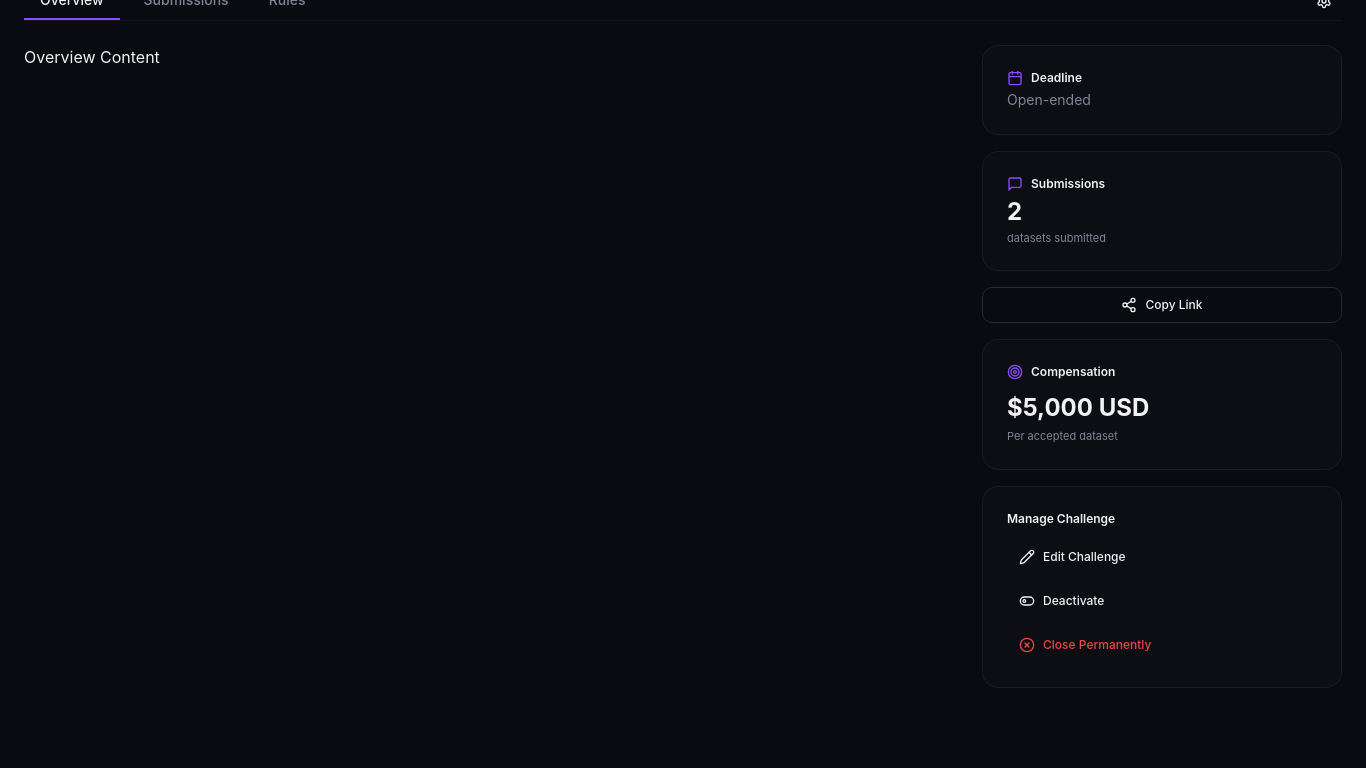
Test case: ChallengeLayout › owner status actions call setStatus and update UI state
The image size is (1366, 768).
(page scrolled)
Click the button "Deactivate": (1074,600) [1007,582,1317,618]
(page scrolled)
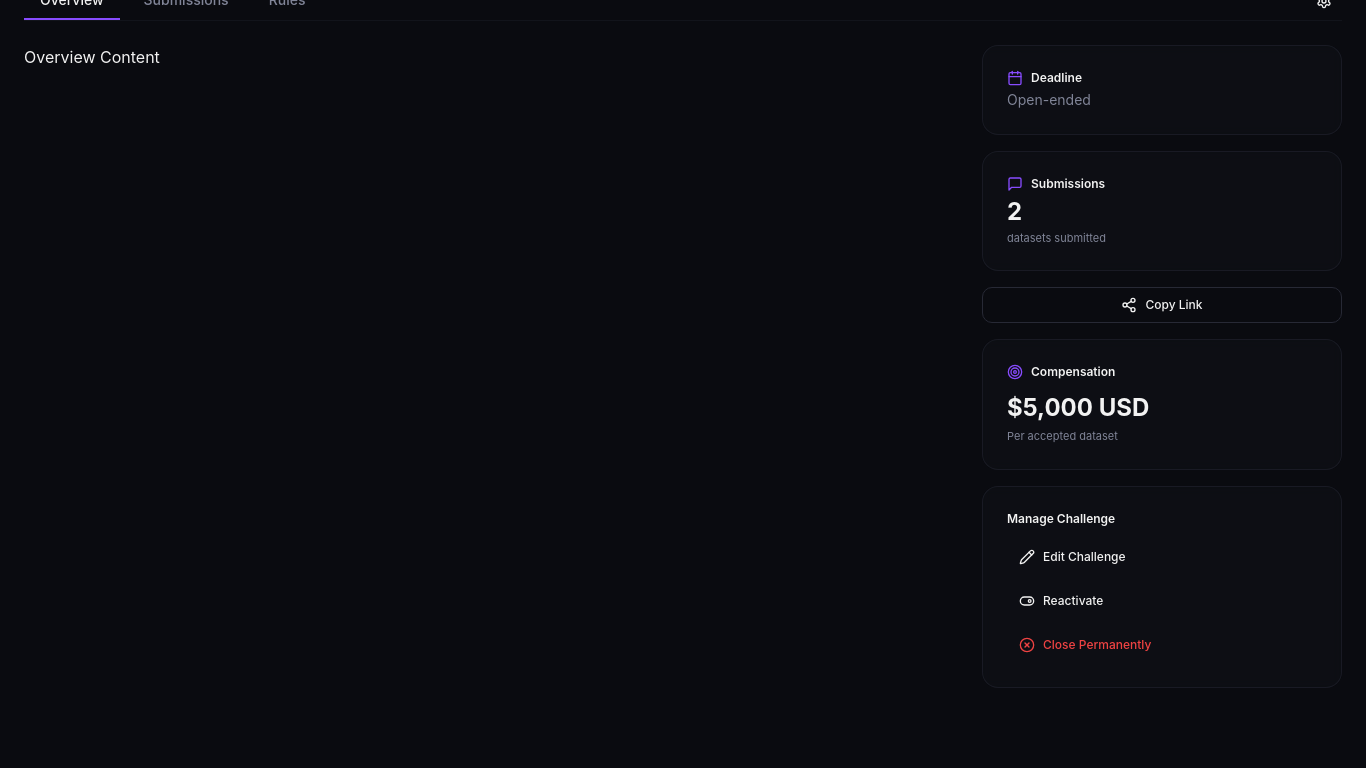
Click the button "Reactivate": (1073,600) [1007,582,1317,618]
(page scrolled)
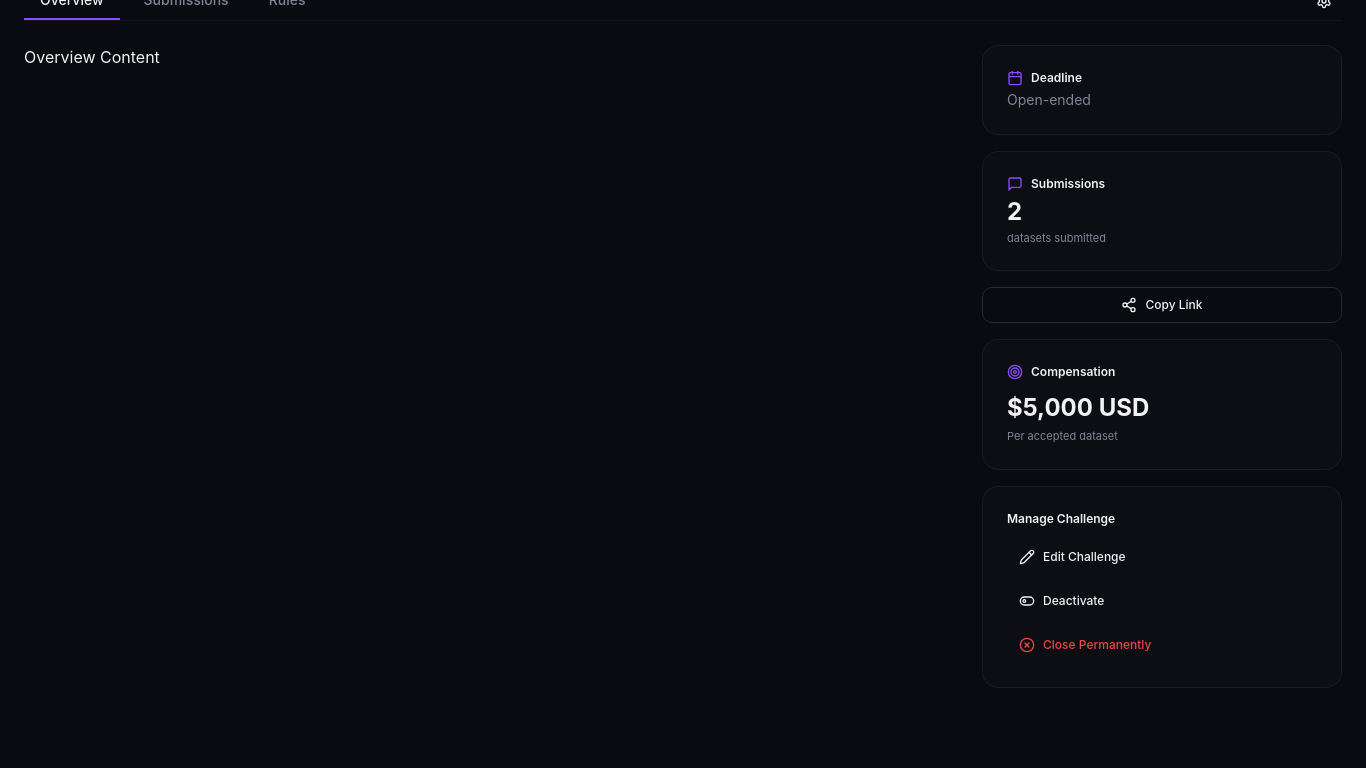
Click the button "Close Permanently": (1097,644) [1007,626,1317,662]
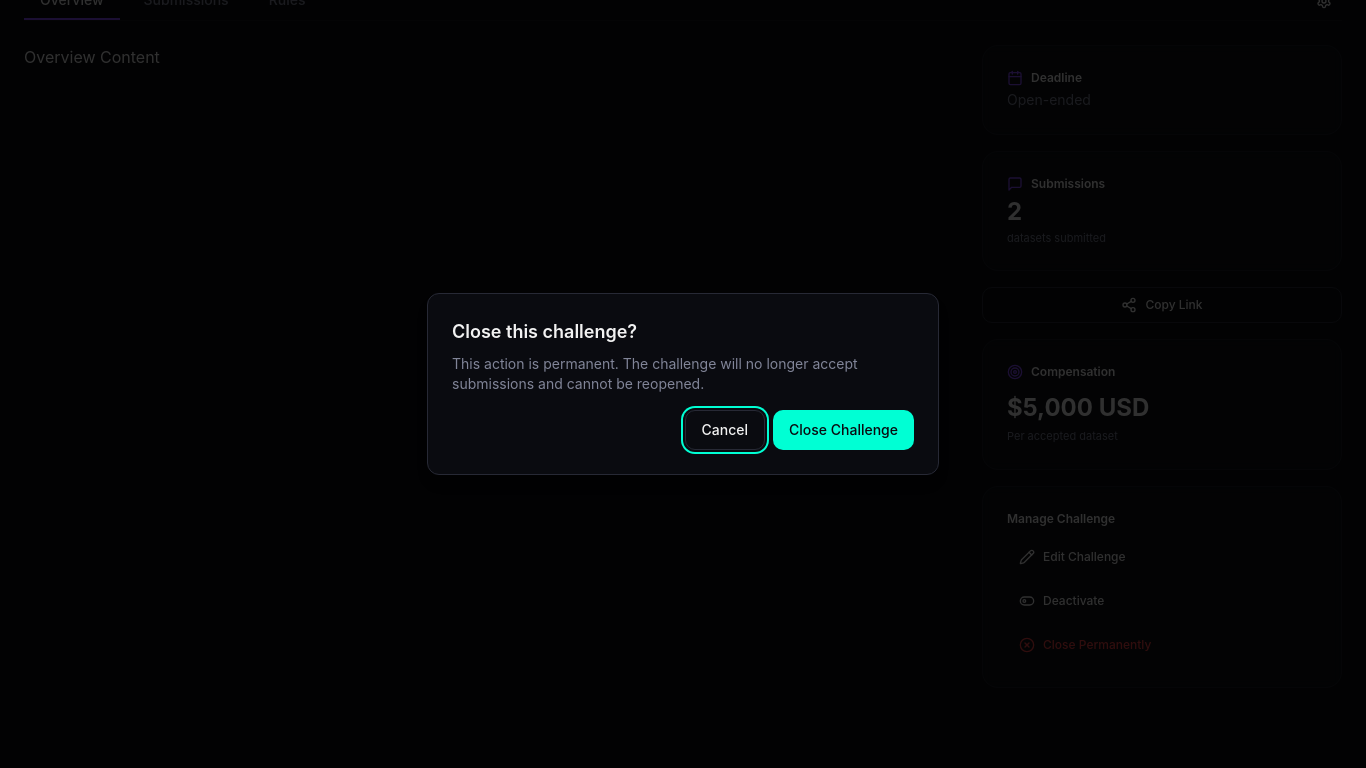
Click the button "Close Challenge": (844,430) [773,410,914,450]
(page scrolled)
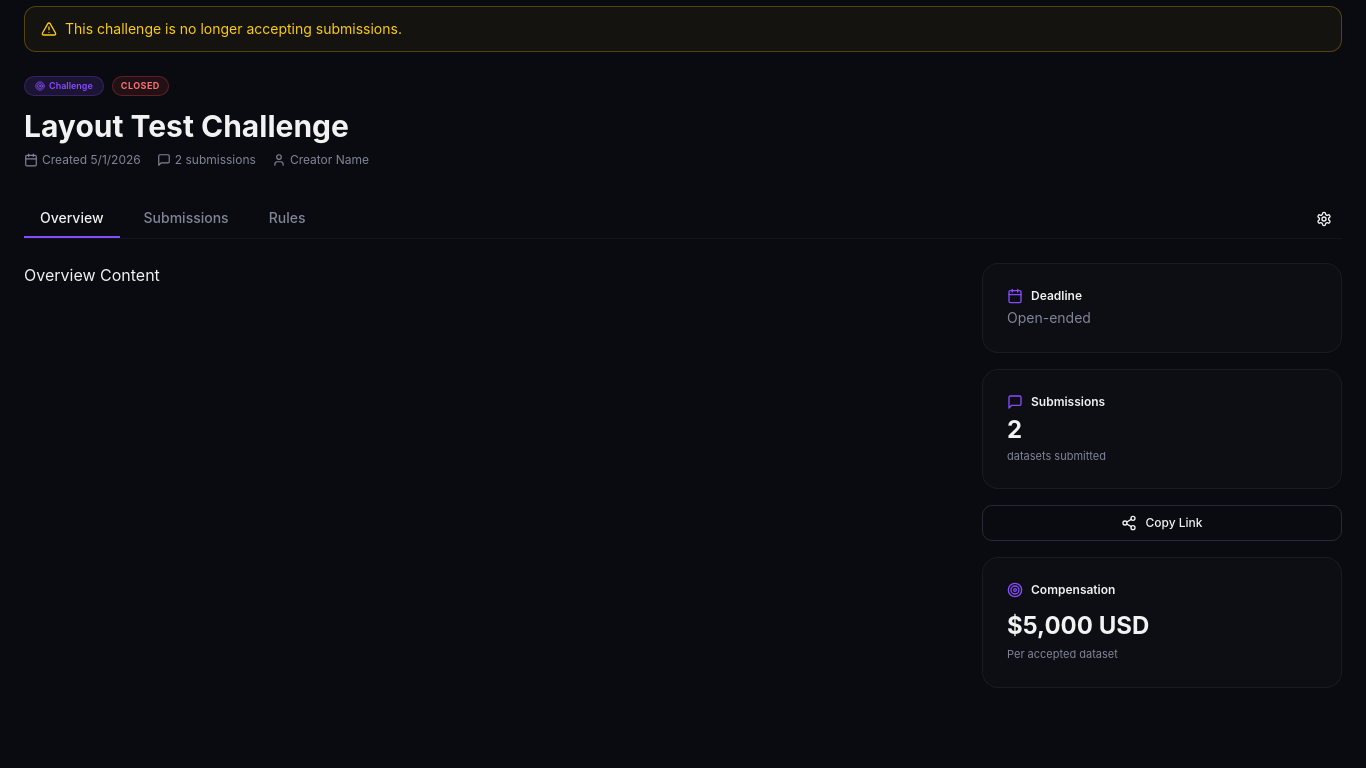
Check: the text with test id "challenge-status-badge" reads "Closed", box [121,80,160,91]
Check: the text "This challenge is no longer accepting submissions." is shown, box [65,19,402,39]
